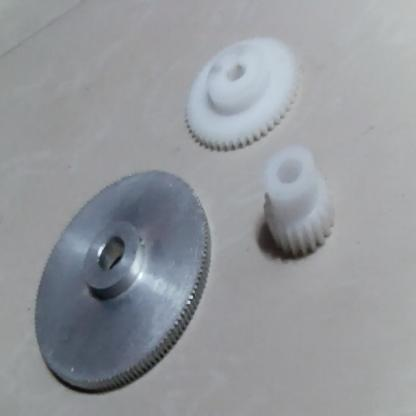FOD: (32, 169, 216, 401), (176, 36, 305, 151), (256, 148, 343, 264)
